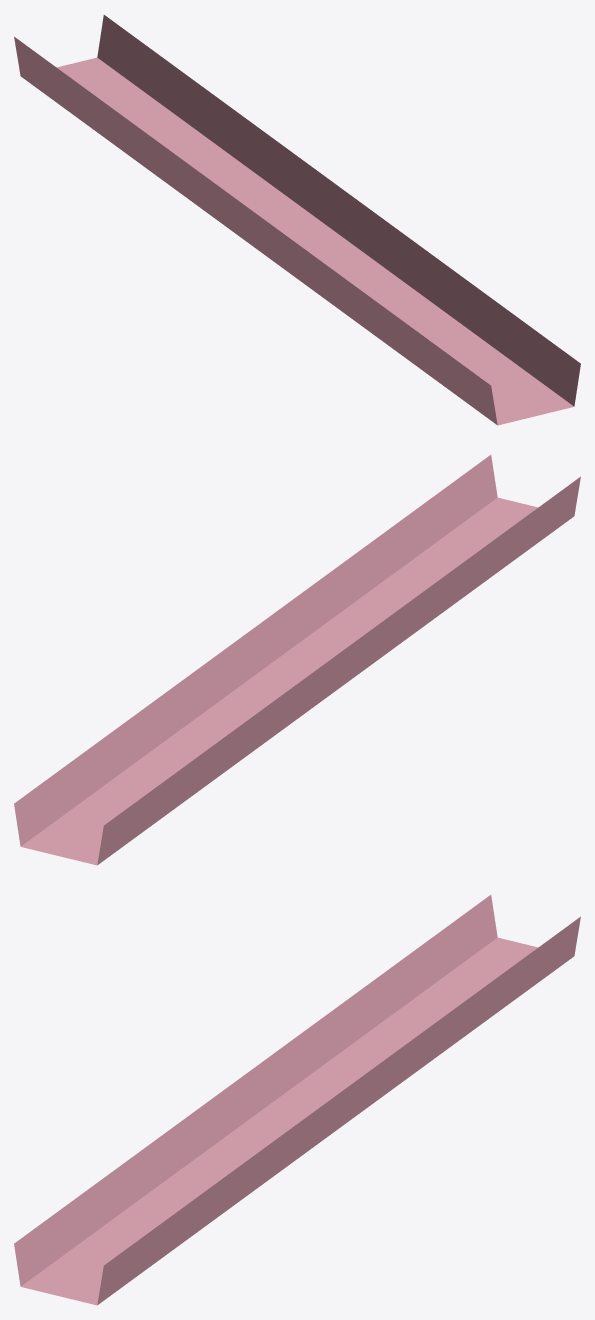
The model's file is IntCeilingBeam.fbx.
3 views of the same model, one above another, from view 1: azimuth 30°, elevation 25°; view 2: azimuth 150°, elevation 25°; view 3: azimuth 330°, elevation 25° (orthographic).
Visible parts, largest first — view 1: IntCeilingBeam; view 2: IntCeilingBeam; view 3: IntCeilingBeam.
Part boxes in pixels (<box>): IntCeilingBeam: <box>14,15,580,425</box>; IntCeilingBeam: <box>14,455,580,865</box>; IntCeilingBeam: <box>14,895,580,1305</box>.
Bounding box in the file's own units: 43.49 × 19.19 × 400.
